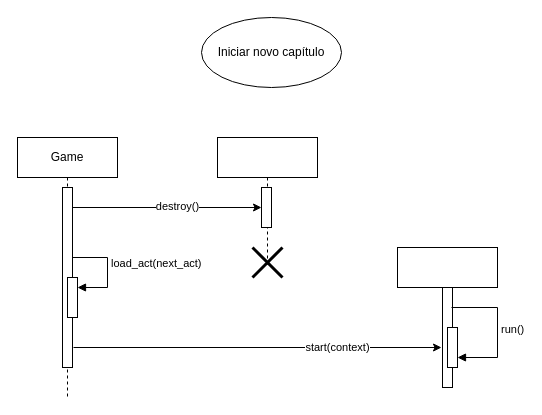
This 542x415 diagram has some shape labels left out. Here are the shapes that lost their labels. From the top down, the box of each, then its label:
(216, 136, 318, 268): Act atual
(396, 246, 498, 388): Act novo
